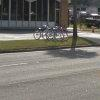Bicycle: (27, 15, 82, 53)
